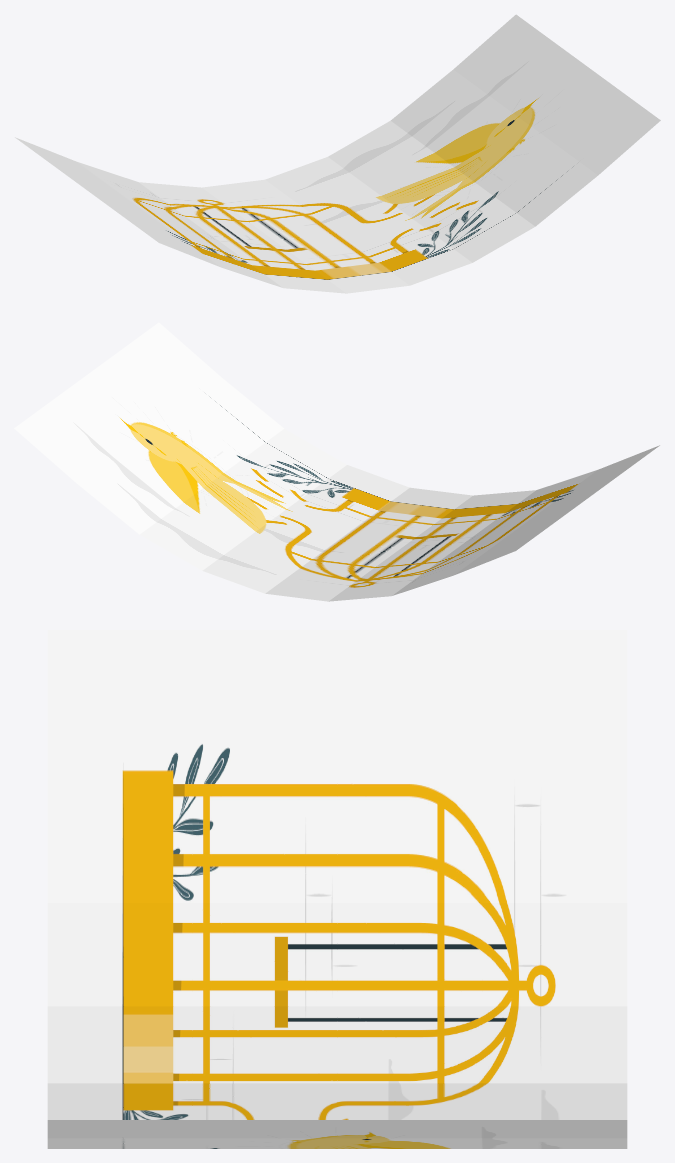
The model's file is BirdPlane.fbx.
3 renders of one model, top to bottom at view 1: azimuth 30°, elevation 25°; view 2: azimuth 150°, elevation 25°; view 3: azimuth 270°, elevation 25°, orthographic. The views are drawn at different scales.
Parts seen in each view (by area): view 1: Plane.001; view 2: Plane.001; view 3: Plane.001.
Boxes of the visible parts, x1,y1,x2,y2 form: Plane.001: (15, 14, 660, 293); Plane.001: (14, 322, 659, 601); Plane.001: (47, 630, 627, 1148).
Bounding box in the file's own units: 400 × 79.22 × 200.
